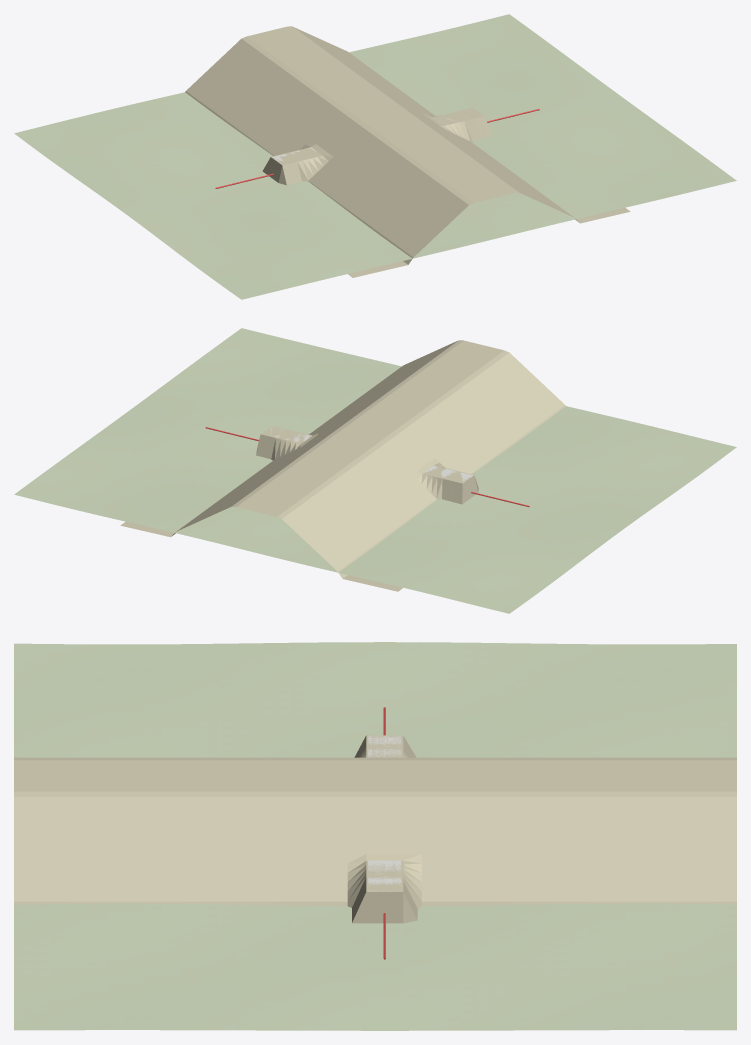
3 views of the same model, one above another, from view 1: azimuth 30°, elevation 25°; view 2: azimuth 150°, elevation 25°; view 3: azimuth 270°, elevation 25° (orthographic). The views are drawn at different scales.
Visible parts, largest first — view 1: 地形|現況地形 (参考), 土工|道路盛土 (参考, 天端幅9.5m H=5m); view 2: 地形|現況地形 (参考), 土工|道路盛土 (参考, 天端幅9.5m H=5m); view 3: 地形|現況地形 (参考), 土工|道路盛土 (参考, 天端幅9.5m H=5m), 本体|ボックス本体 (外形一体, 内空なし).
Part boxes in pixels (x1=…): 地形|現況地形 (参考): x1=14, y1=14, x2=736, y2=299; 土工|道路盛土 (参考, 天端幅9.5m H=5m): x1=185, y1=26, x2=630, y2=277; 地形|現況地形 (参考): x1=14, y1=328, x2=736, y2=613; 土工|道路盛土 (参考, 天端幅9.5m H=5m): x1=120, y1=340, x2=565, y2=591; 地形|現況地形 (参考): x1=14, y1=642, x2=736, y2=1030; 土工|道路盛土 (参考, 天端幅9.5m H=5m): x1=14, y1=735, x2=736, y2=923; 本体|ボックス本体 (外形一体, 内空なし): x1=368, y1=735, x2=401, y2=891.
Bounding box in the file's own units: 98 × 8.91 × 78.
